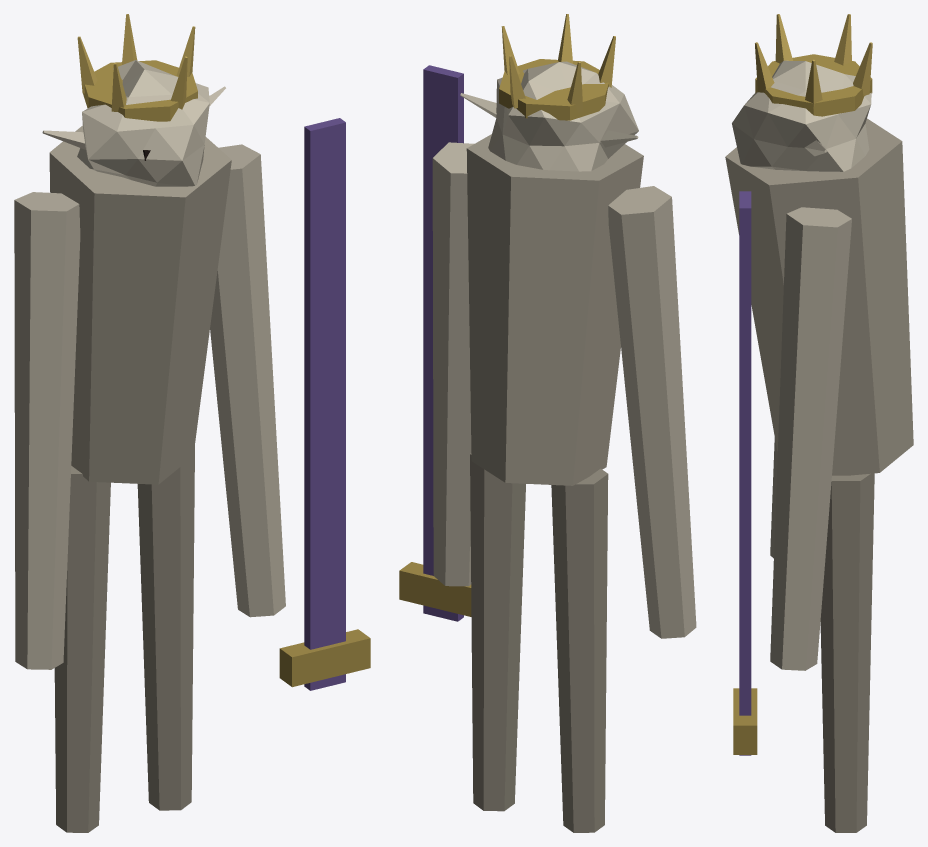
Rendered from barrow_king.glb.
3 views of the same model, side by side, from view 1: azimuth 30°, elevation 25°; view 2: azimuth 150°, elevation 25°; view 3: azimuth 270°, elevation 25° (orthographic). The views are drawn at different scales.
Visible parts, largest first — view 1: barrow_king; view 2: barrow_king; view 3: barrow_king.
Boxes of the visible parts, left/top/right/bottom form: barrow_king: left=14, top=14, right=370, bottom=832; barrow_king: left=399, top=14, right=696, bottom=832; barrow_king: left=725, top=14, right=913, bottom=832.
Bounding box in the file's own units: 0.8926 × 2.11 × 0.4682.
1 material, 1 textured.
